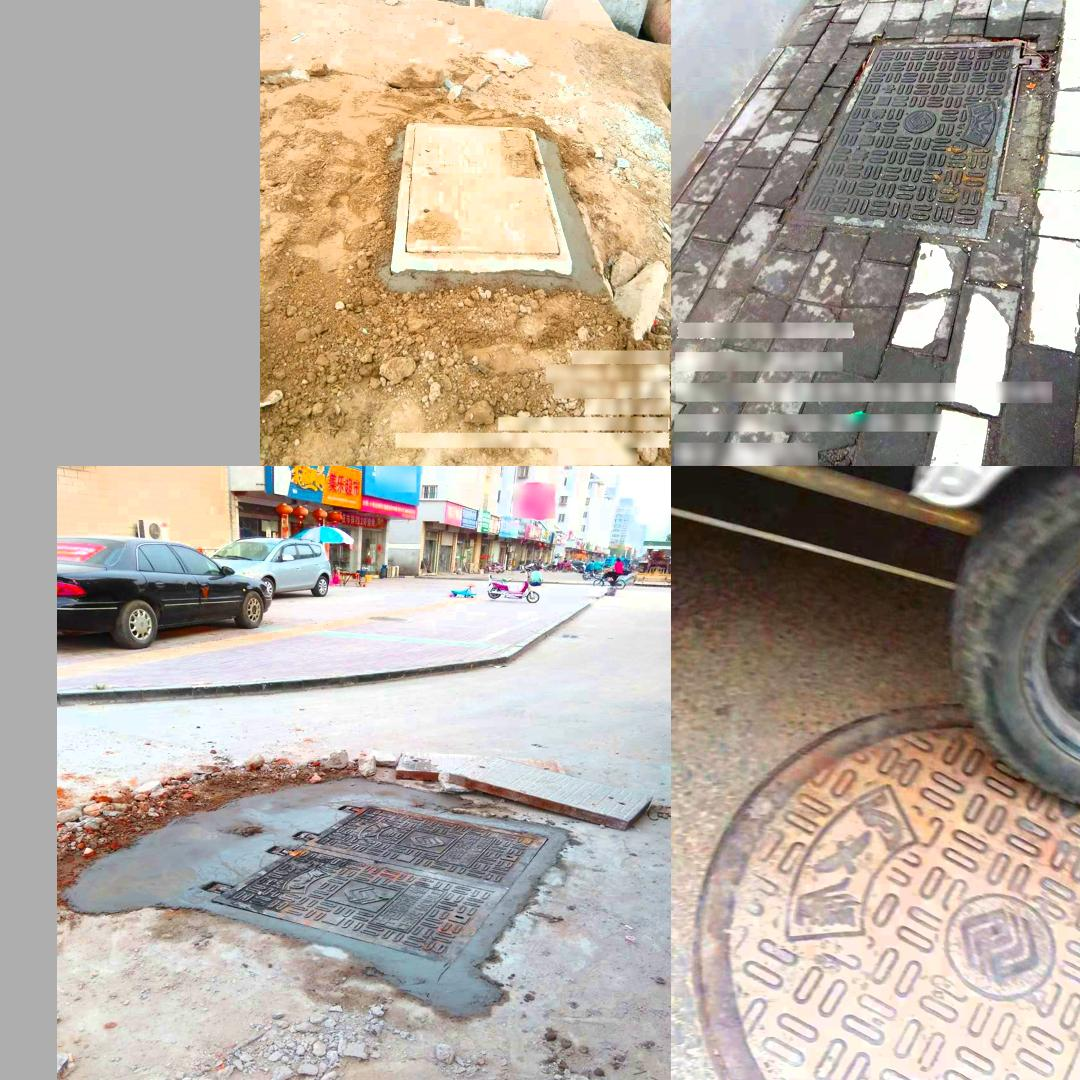good: (698, 776, 1080, 1080), (207, 801, 550, 964), (782, 38, 1048, 244), (389, 123, 573, 272)
